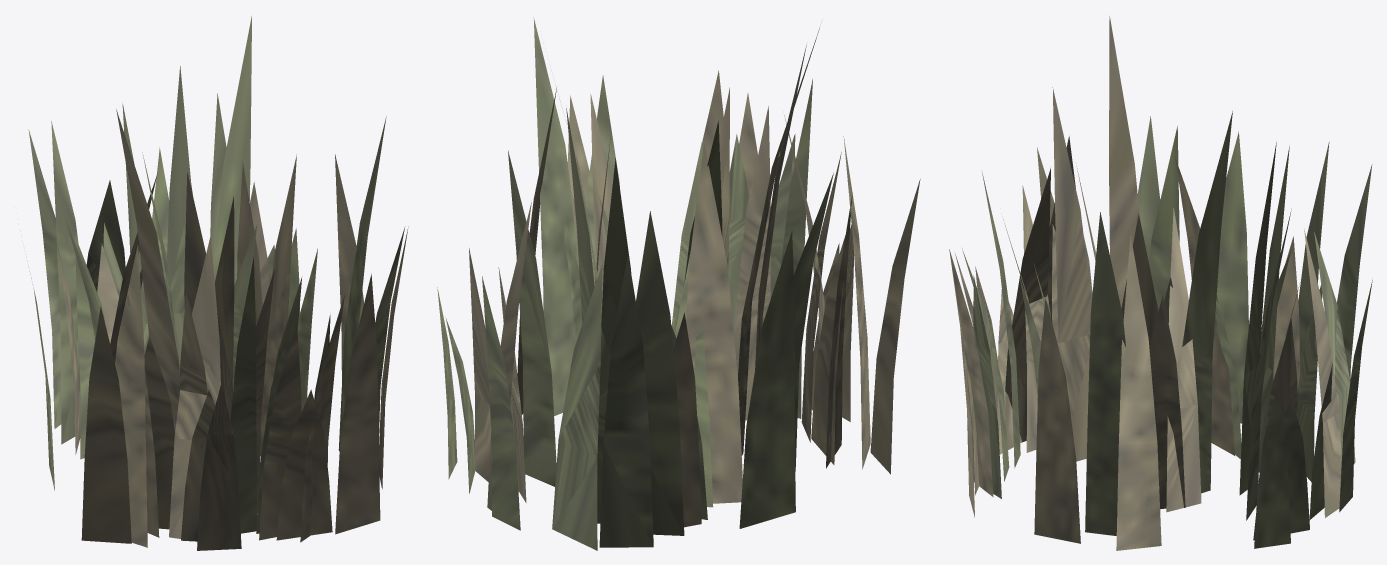
File: grass_tuft_tall_03.glb
3 renders of one model, left to right at view 1: azimuth 30°, elevation 25°; view 2: azimuth 150°, elevation 25°; view 3: azimuth 270°, elevation 25°, orthographic. The views are drawn at different scales.
Parts seen in each view (by area): view 1: grass_tuft_tall_03; view 2: grass_tuft_tall_03; view 3: grass_tuft_tall_03.
Part boxes in pixels (left/top/right/bottom): grass_tuft_tall_03: left=27, top=16, right=408, bottom=550; grass_tuft_tall_03: left=437, top=17, right=920, bottom=550; grass_tuft_tall_03: left=949, top=16, right=1372, bottom=550.
Bounding box in the file's own units: 0.2521 × 0.3119 × 0.2925.
Materials: 1 (1 with a texture image).
